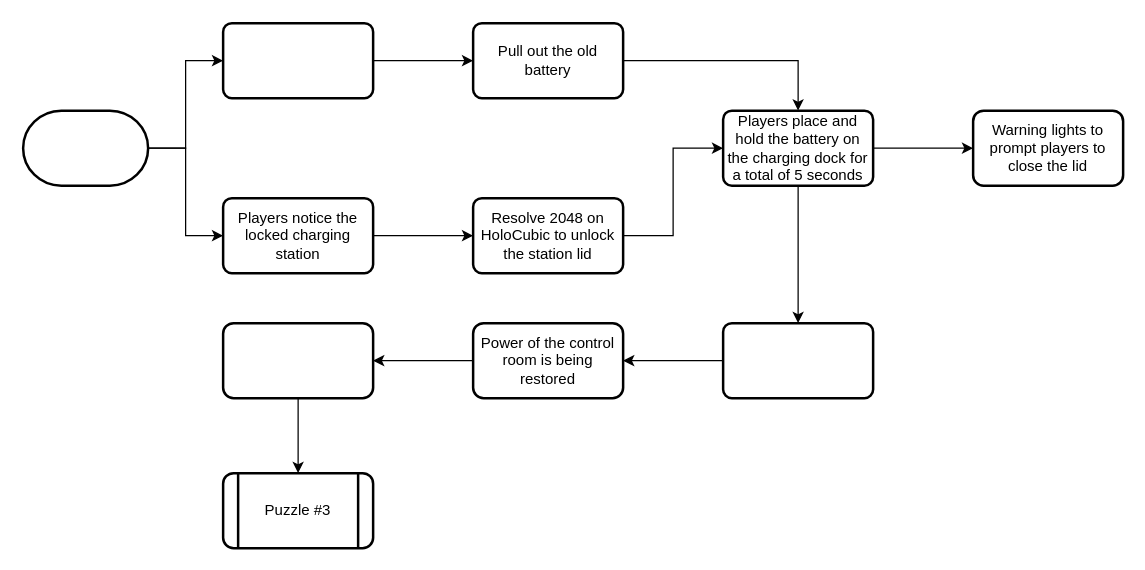
Image size: 1145x570. Some labels were removed from this diagram. Here are the shapes that lost their labels. From the top down, the centre of each, then its label:
the point at 297,60: Players notice the dead battery
the point at 85,147: Start
the point at 297,360: Puzzle #3 (radio) enabled
the point at 797,360: Place the fully charged battery back to electric box
